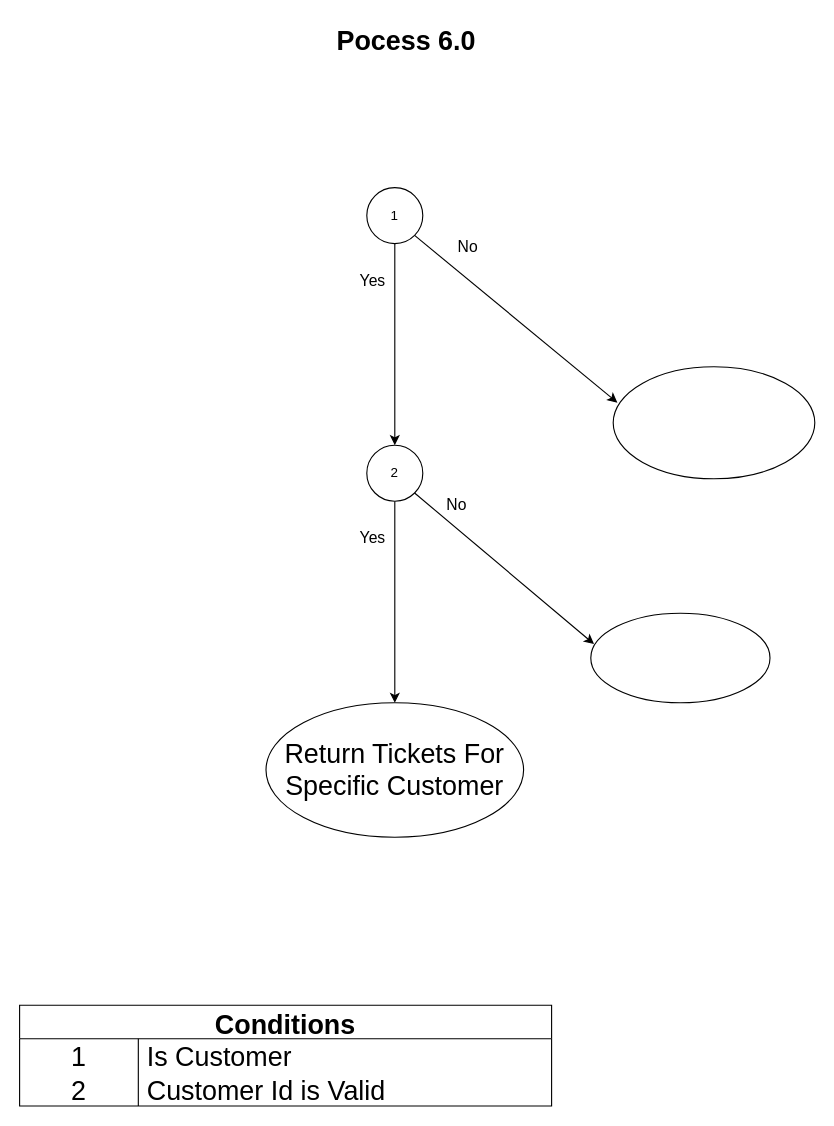
This 834x1126 diagram has some shape labels left out. Each missing label, with the box of its shape:
return BadRequest: (590, 612, 770, 703)
return UnAuthorized: (612, 366, 815, 479)
